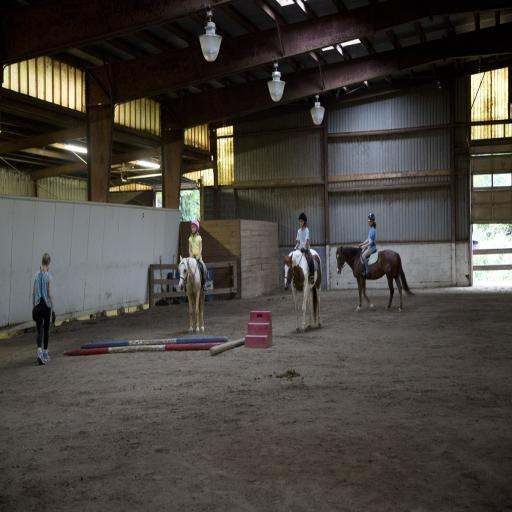horse: (334, 243, 416, 317), (280, 248, 324, 333), (178, 253, 208, 333)
